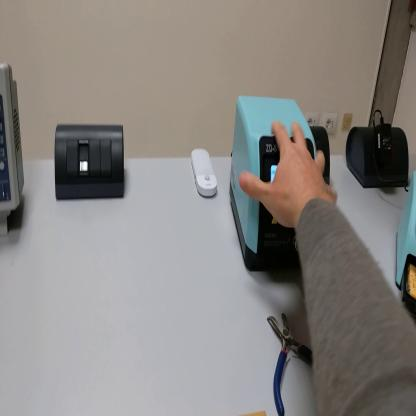hand: (240, 119, 337, 228)
oscilloscope: (2, 63, 27, 237)
pliers: (265, 308, 319, 416)
socket: (344, 125, 411, 192), (311, 128, 335, 190)
welder base: (395, 162, 416, 316)
welder station: (229, 100, 314, 272)
working area: (243, 410, 269, 416)
